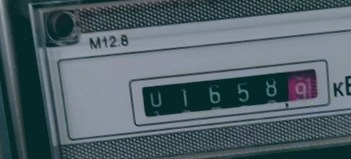0: (148, 86, 164, 110)
1: (179, 86, 191, 109)
5: (235, 80, 252, 104)
6: (206, 82, 223, 106)
8: (263, 75, 279, 99)
9: (292, 81, 308, 103)
screen: (123, 50, 340, 136)
